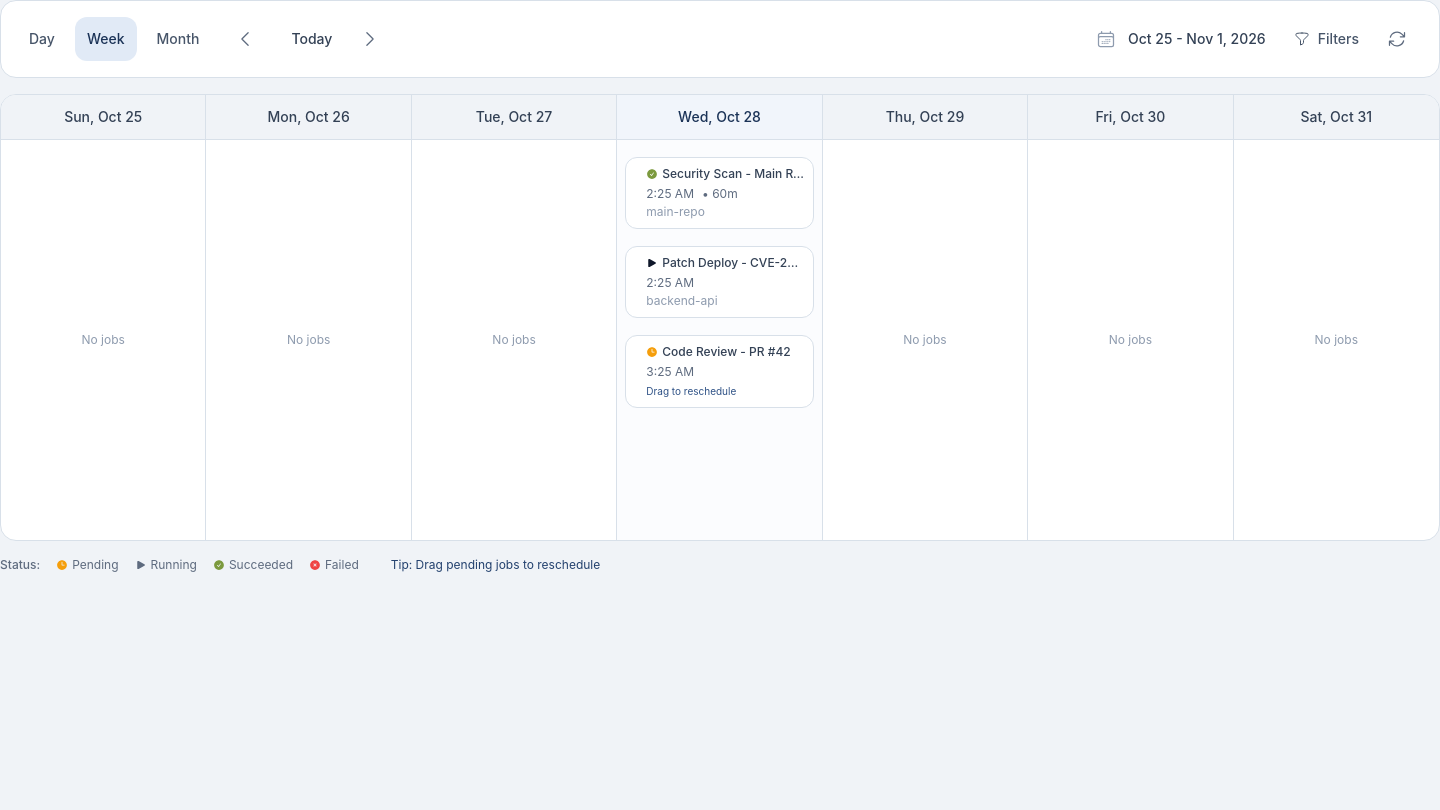
JobTimelineView › Entry Interaction › closes entry detail modal when Close clicked
The width and height of the screenshot is (1440, 810).
Click the text "Security Scan - Main Repo" at (734, 174), box [662,166,805,182]
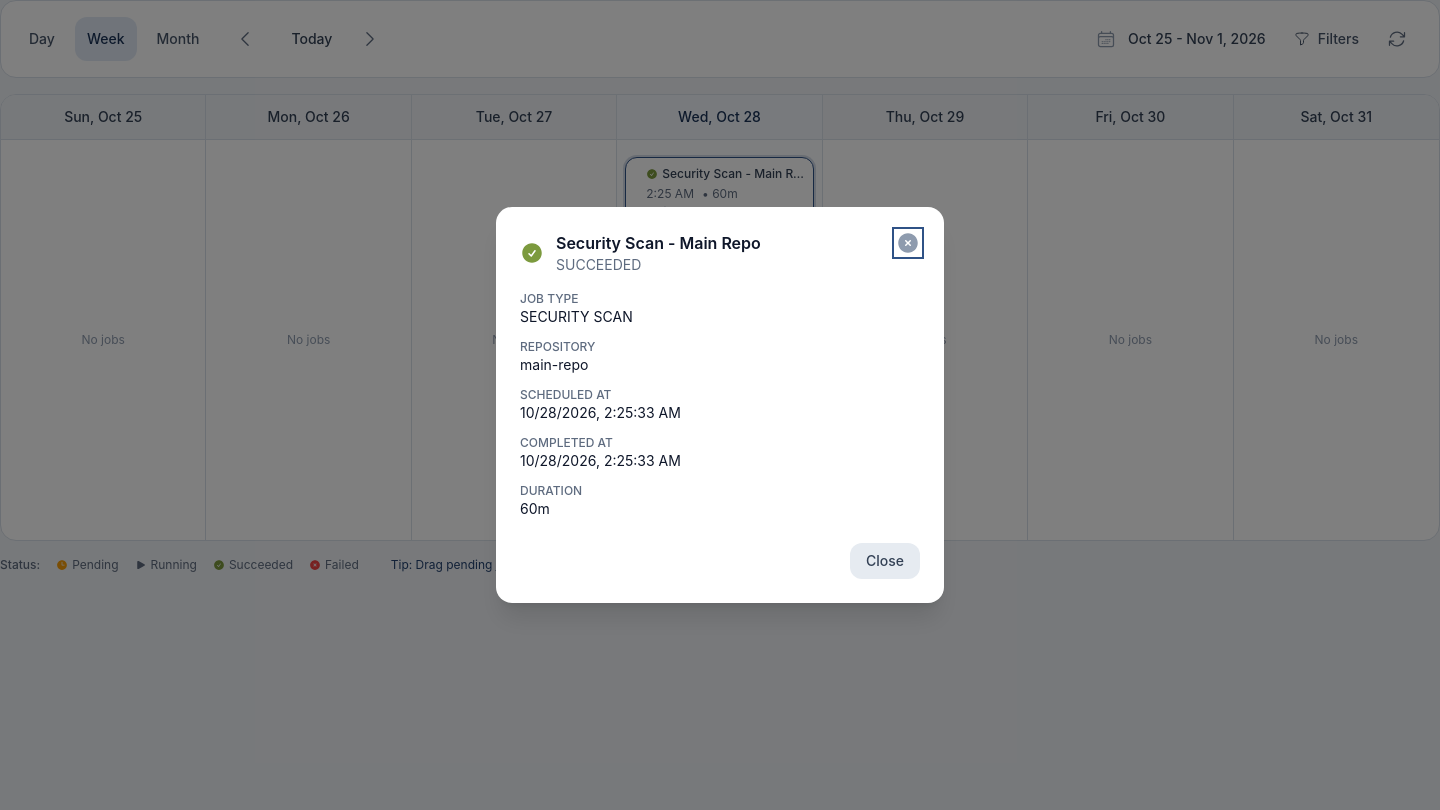
Check: the text "Job Type" is shown, box [520,291,578,306]
Click the button "Close" at (885, 561), box [850,543,920,579]
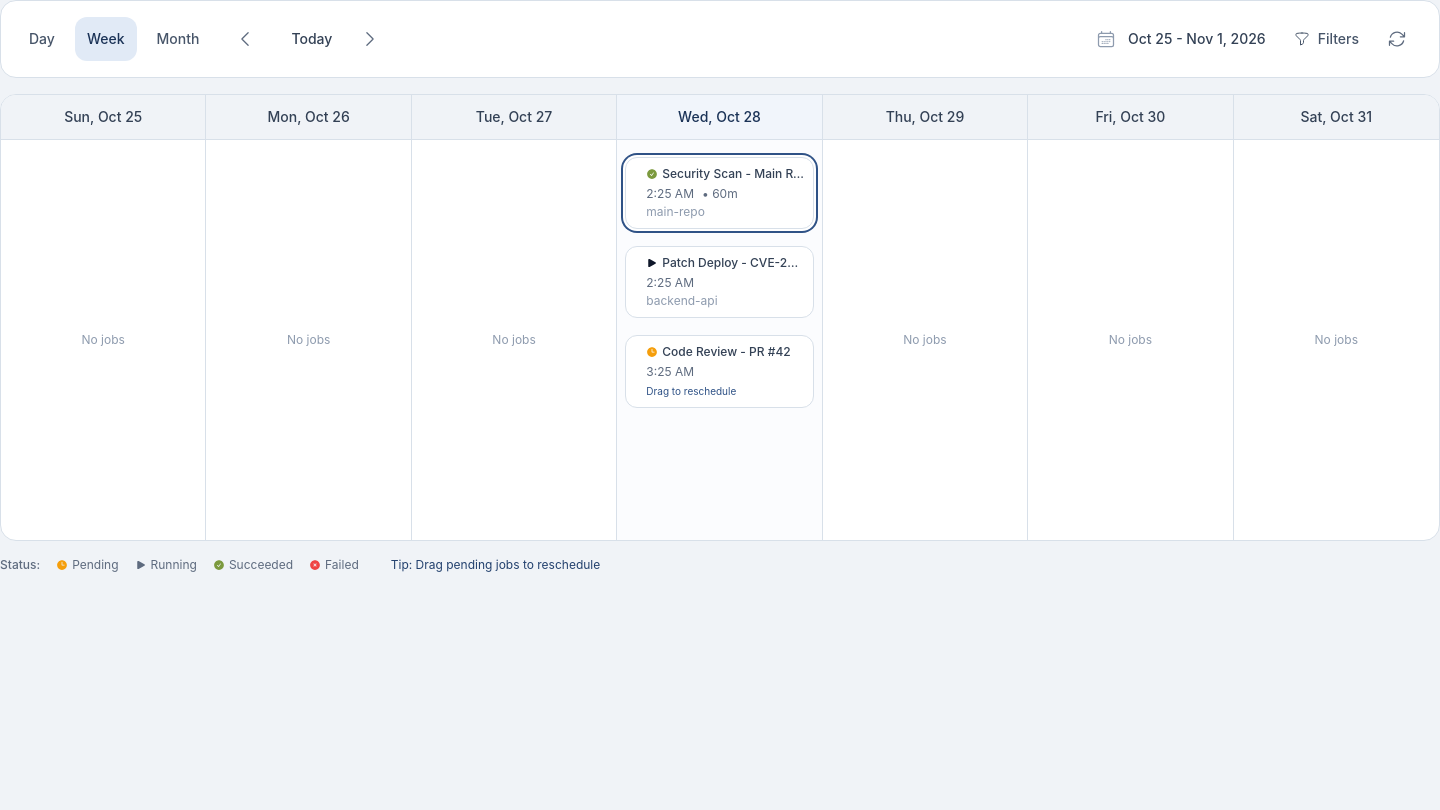
Check: the text "Job Type" is gone
